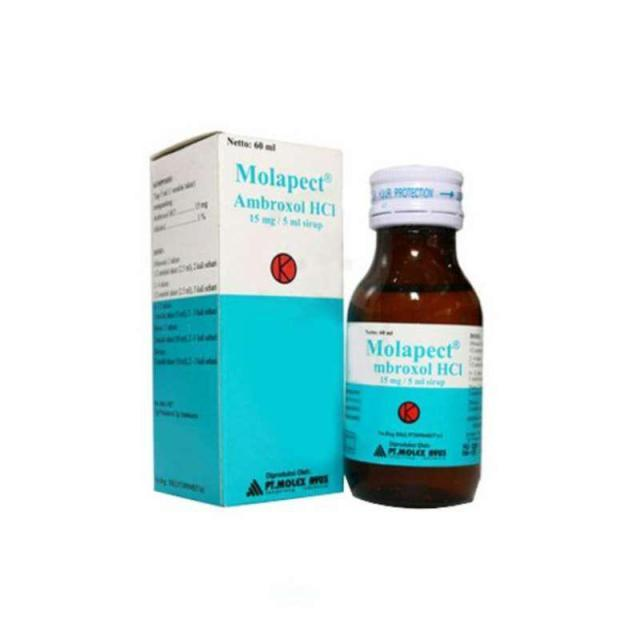drug-name: (234, 161, 332, 196)
